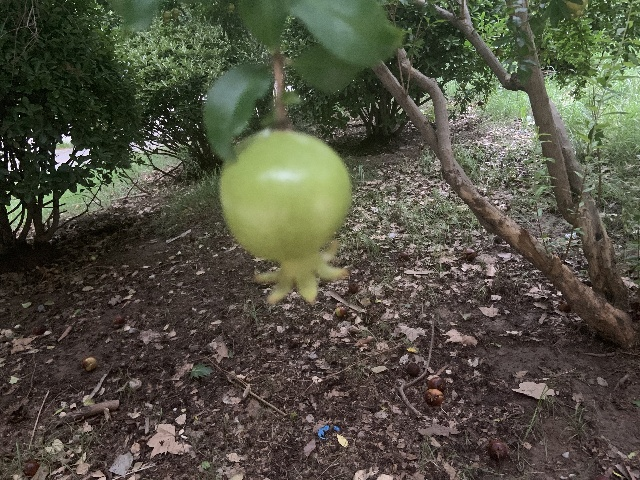mid-growth: (219, 130, 353, 306), (161, 10, 170, 23), (170, 7, 179, 19), (227, 2, 234, 13)
